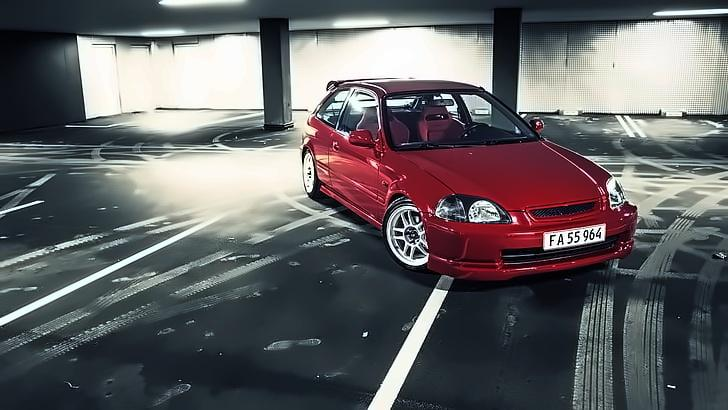Car hood: (396, 139, 617, 213)
Driver-s door - -F-R-: (328, 85, 378, 220)
Fender - -F-R-: (377, 143, 456, 225)
Fender - -R-R-: (302, 109, 327, 186)
Front bumper: (423, 207, 643, 277)
Headlight - -L-: (603, 173, 631, 213)
Headlight - -R-: (432, 191, 516, 228)
Side bumper - -R-: (316, 179, 386, 232)
Side mirror - -L-: (523, 114, 546, 136)
Side mirror - -R-: (344, 124, 379, 153)
